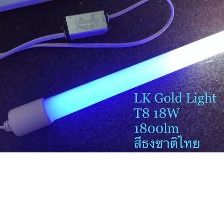light_bulb: (4, 24, 223, 143)
